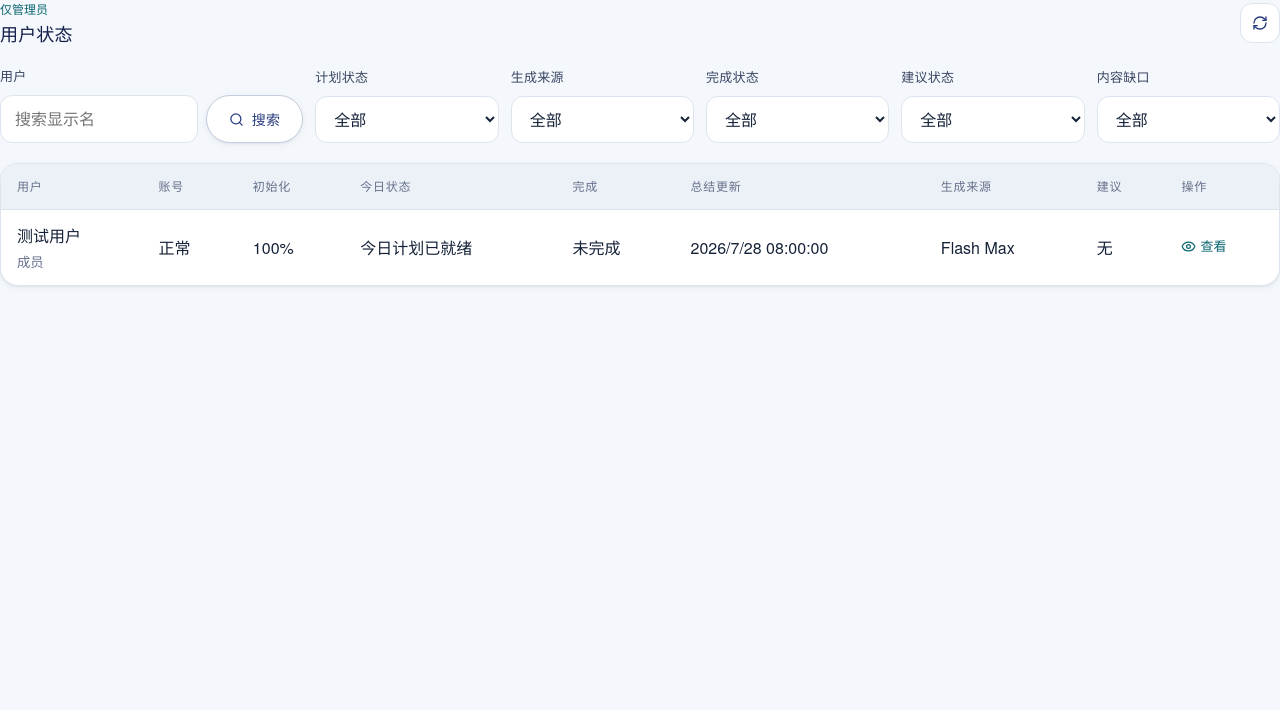
Test case: AdminDailyUsers › renders a compact today-plan diagnostic snapshot without raw model payloads
Click the button with class "action-link" at (1204, 246), box left=1182, top=236, right=1226, bottom=257
(page scrolled)
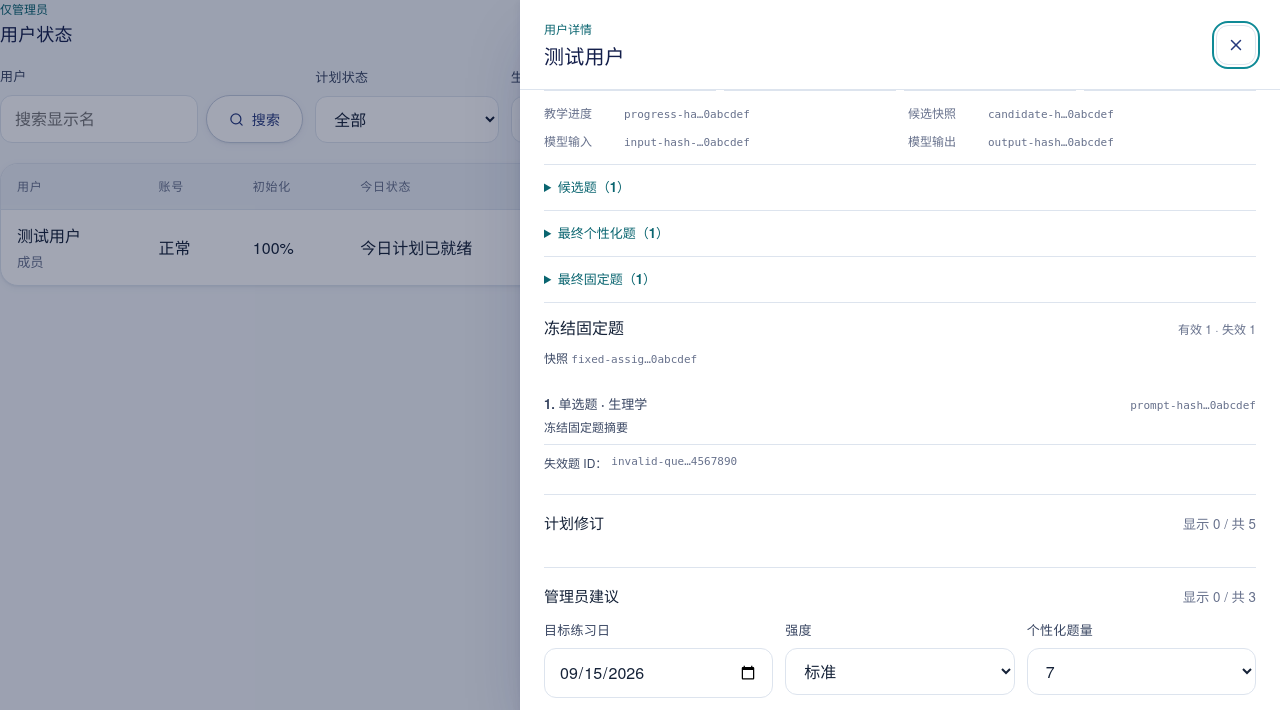
Expected: the text "有效 1 · 失效 1" is shown, left=1178, top=318, right=1256, bottom=338
Expected: the text titled "progress-hash-1234567890abcdef" is shown, left=624, top=108, right=750, bottom=120
Expected: the text titled "fixed-assignment-hash-1234567890abcdef" is shown, left=571, top=353, right=697, bottom=366
